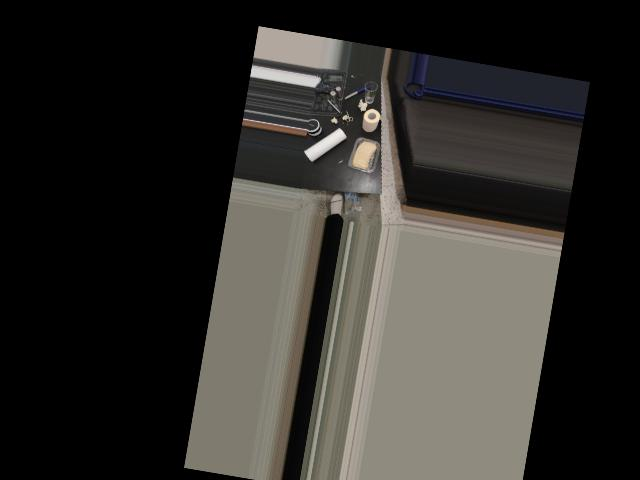cheese: (345, 134, 382, 177)
